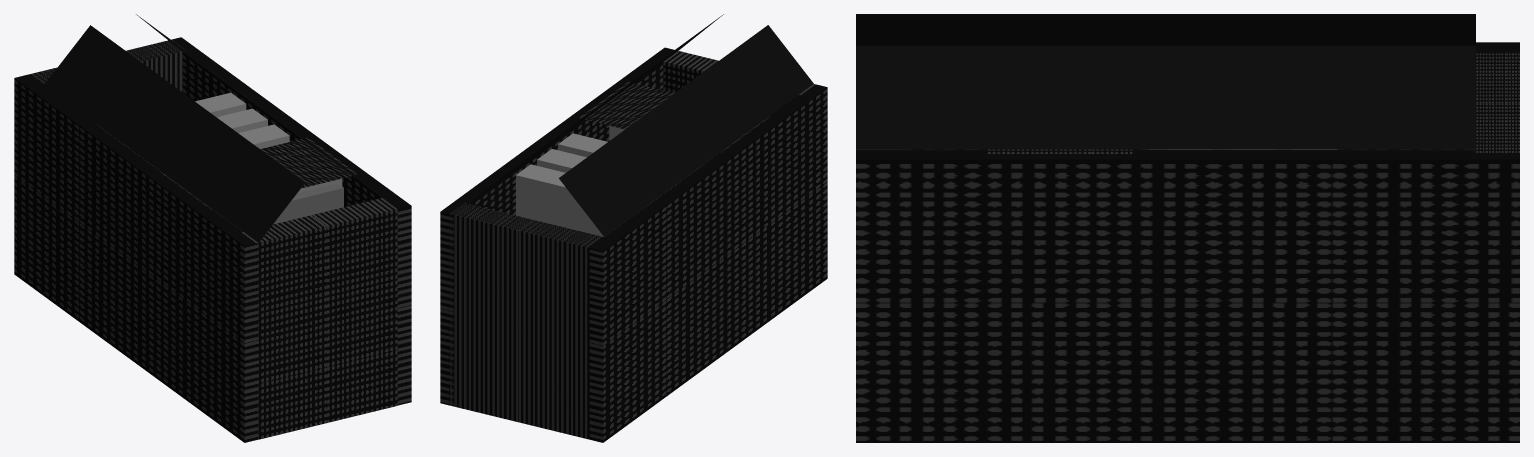
File: server.obj
3 views of the same model, side by side, from view 1: azimuth 30°, elevation 25°; view 2: azimuth 150°, elevation 25°; view 3: azimuth 270°, elevation 25° (orthographic). The views are drawn at different scales.
Visible parts, largest first — view 1: Object.2, Object.7, Object.3, Object.1, Object.8, Object.6, Object.25, Object.4, Object.19, Object.9, Object.14; view 2: Object.2, Object.6, Object.3, Object.1, Object.9, Object.8, Object.7, Object.4, Object.14, Object.19; view 3: Object.1, Object.4, Object.3, Object.6, Object.8, Object.2.
Part boxes in pixels (box(x1,y1,x2,y2)): Object.2: box(14, 74, 258, 442); Object.7: box(240, 197, 399, 439); Object.3: box(44, 25, 305, 242); Object.1: box(173, 37, 411, 405); Object.8: box(160, 137, 358, 210); Object.6: box(28, 39, 187, 121); Object.25: box(226, 183, 343, 230); Object.4: box(136, 14, 397, 208); Object.19: box(143, 124, 289, 171); Object.9: box(102, 92, 246, 137); Object.14: box(119, 108, 267, 152); Object.2: box(589, 84, 827, 442); Object.6: box(449, 203, 603, 439); Object.3: box(559, 25, 813, 236); Object.1: box(440, 47, 674, 406); Object.9: box(516, 164, 651, 236); Object.8: box(578, 82, 771, 152); Object.7: box(663, 51, 816, 114); Object.4: box(469, 14, 723, 203); Object.14: box(537, 149, 680, 195); Object.19: box(558, 133, 702, 174); Object.1: box(856, 150, 1519, 442); Object.4: box(856, 46, 1475, 149); Object.3: box(856, 14, 1475, 45); Object.6: box(1475, 52, 1519, 153); Object.8: box(988, 149, 1132, 154); Object.2: box(900, 42, 1519, 149).
Size of the model in its own units: 1.36 by 1.92 by 3.25.
